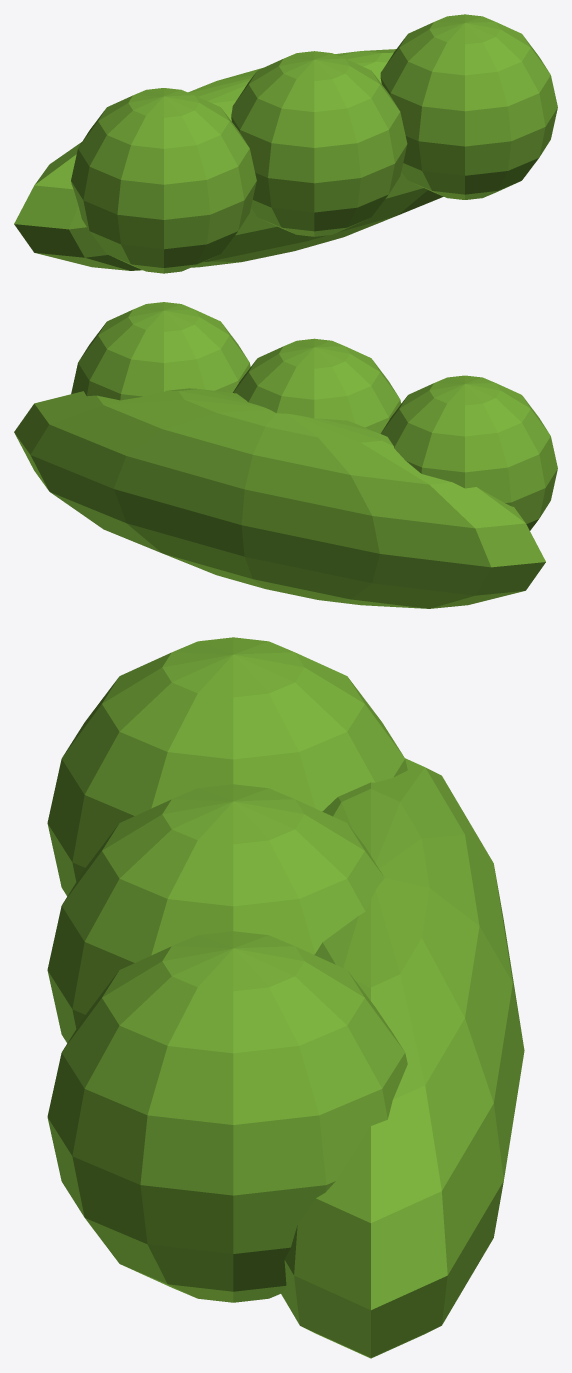
The model's file is triple.glb.
The picture shows the model from 3 angles, top to bottom: view 1: azimuth 30°, elevation 25°; view 2: azimuth 150°, elevation 25°; view 3: azimuth 270°, elevation 25°; orthographic projection. The views are drawn at different scales.
Parts seen in each view (by area): view 1: Pea, Pea.002, Pea.001, Peapod; view 2: Peapod, Pea, Pea.002, Pea.001; view 3: Pea.002, Peapod, Pea, Pea.001.
Part boxes in pixels (x1,y1,x2,y2): Pea: (71,88,256,273); Pea.002: (380,14,557,199); Pea.001: (231,51,407,236); Peapod: (14,49,443,270); Peapod: (14,388,545,608); Pea: (380,375,557,530); Pea.002: (71,302,250,400); Pea.001: (233,338,401,433); Pea.002: (47,931,407,1302); Peapod: (281,758,524,1358); Pea: (47,637,407,896); Pea.001: (47,784,384,1043).
Size of the model in its own units: 1.52 by 0.58 by 0.59.
